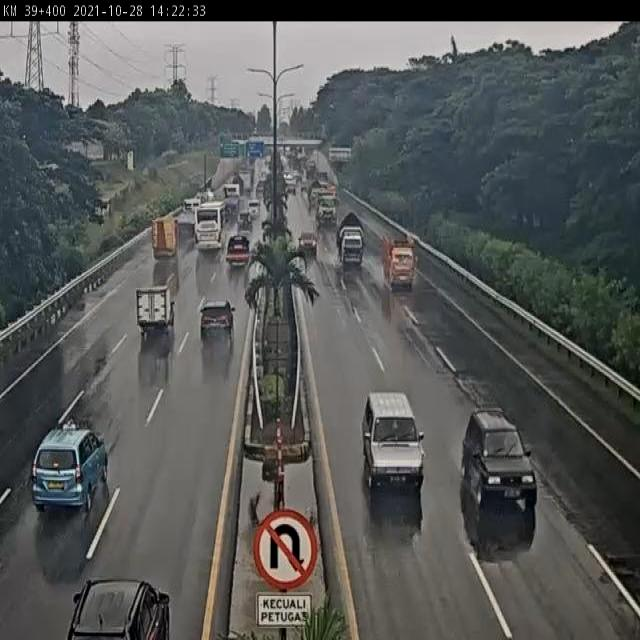Bus: (193, 200, 225, 252)
Car: (460, 406, 537, 511), (31, 421, 109, 512), (66, 578, 171, 638), (360, 392, 423, 491), (199, 298, 236, 342), (298, 232, 318, 256), (238, 205, 254, 231), (248, 199, 260, 219)
Truck: (136, 282, 175, 336), (380, 235, 416, 291), (337, 212, 365, 270), (151, 216, 178, 260), (177, 197, 202, 241), (225, 234, 252, 266), (316, 194, 338, 225), (222, 182, 240, 216), (307, 180, 325, 207)
